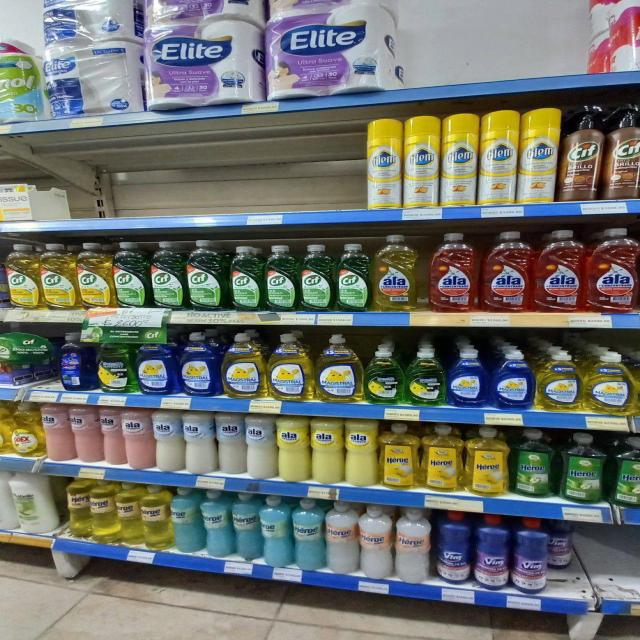ala_conc_amarillo: (372, 233, 423, 312), (12, 402, 42, 458)
ala_conc_rojo: (585, 227, 639, 313), (532, 229, 584, 313), (427, 232, 479, 312), (481, 230, 531, 313)
ala_crem_amarillo: (345, 418, 378, 487), (312, 418, 344, 484), (278, 416, 310, 482)
ala_crem_blanco: (183, 411, 215, 474), (246, 415, 276, 479), (154, 409, 183, 472), (217, 412, 245, 476)
ala_crem_rosado: (123, 408, 153, 469), (70, 404, 98, 464), (43, 403, 71, 462), (100, 406, 122, 466)
cif_conc_bot_amarilla: (40, 242, 76, 309), (77, 242, 113, 308), (5, 243, 39, 309)
cif_conc_botella_verde: (186, 239, 226, 311), (299, 243, 334, 312), (336, 242, 370, 312), (150, 240, 184, 309), (228, 244, 262, 312), (114, 241, 148, 308), (264, 244, 297, 312)
heroe: (559, 431, 607, 504), (512, 428, 557, 498), (466, 426, 509, 496), (395, 507, 433, 582), (380, 422, 420, 490), (423, 424, 463, 492), (359, 504, 394, 578), (326, 500, 358, 574), (293, 497, 325, 571), (261, 495, 292, 567), (611, 433, 639, 508), (202, 489, 232, 558), (172, 487, 202, 554), (141, 484, 171, 550), (232, 492, 260, 561), (90, 479, 117, 544), (63, 478, 90, 540), (117, 482, 141, 546)
magistral_con_amarillo: (315, 333, 363, 403), (584, 350, 634, 416), (268, 332, 312, 401), (536, 349, 582, 412), (222, 332, 265, 398)
magistral_con_azul: (178, 331, 220, 397), (492, 349, 534, 409), (448, 348, 490, 408), (136, 336, 177, 395)
